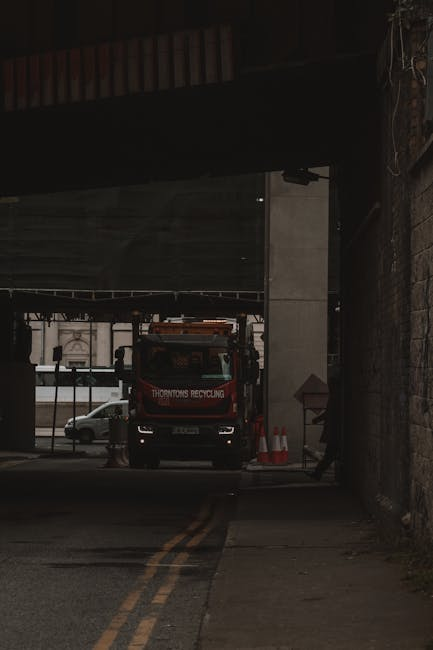traffic_cone: (256, 424, 271, 464), (271, 426, 285, 465), (279, 425, 289, 463)
